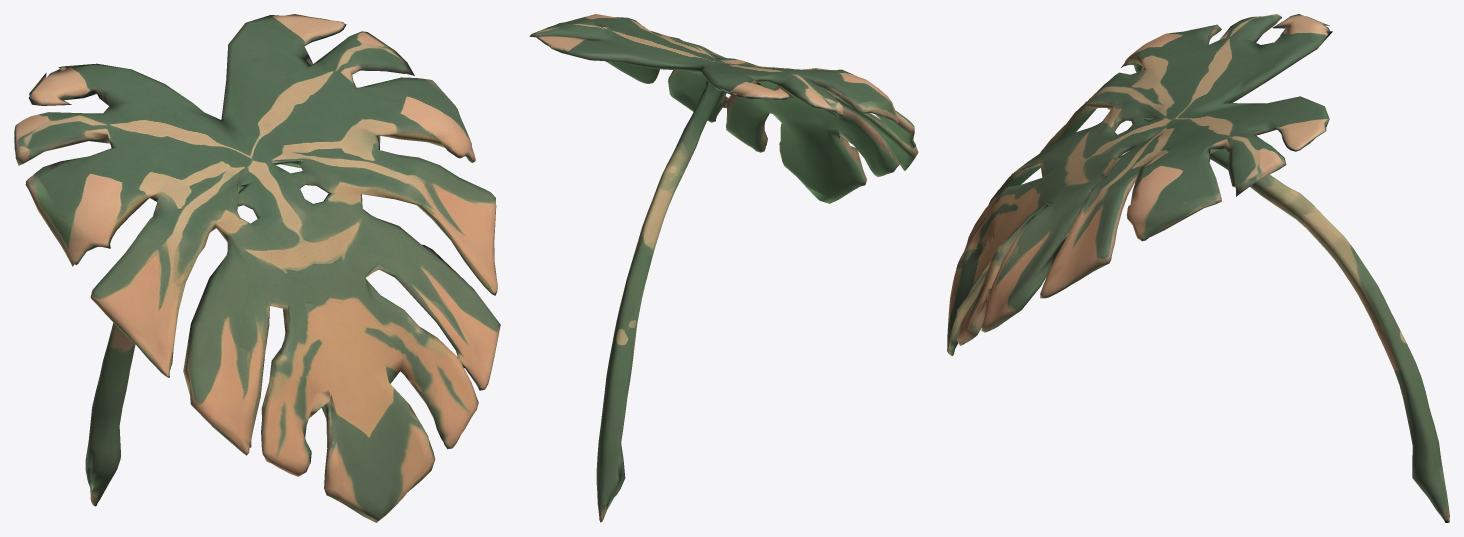
The model's file is mon_green_yellow_v2.glb.
The picture shows the model from 3 angles, left to right: view 1: azimuth 30°, elevation 25°; view 2: azimuth 150°, elevation 25°; view 3: azimuth 270°, elevation 25°; orthographic projection. The views are drawn at different scales.
Parts seen in each view (by area): view 1: world; view 2: world; view 3: world.
Part boxes in pixels (x1=…): world: x1=14, y1=14, x2=500, y2=522; world: x1=529, y1=14, x2=918, y2=522; world: x1=947, y1=14, x2=1449, y2=522.
Bounding box in the file's own units: 1.68 × 1.98 × 2.
Materials: 1 (1 with a texture image).
